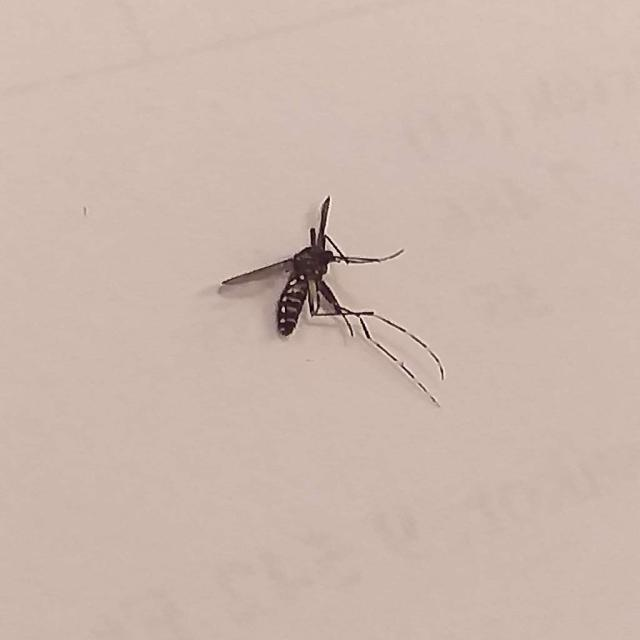albopictus: (214, 196, 454, 414)
